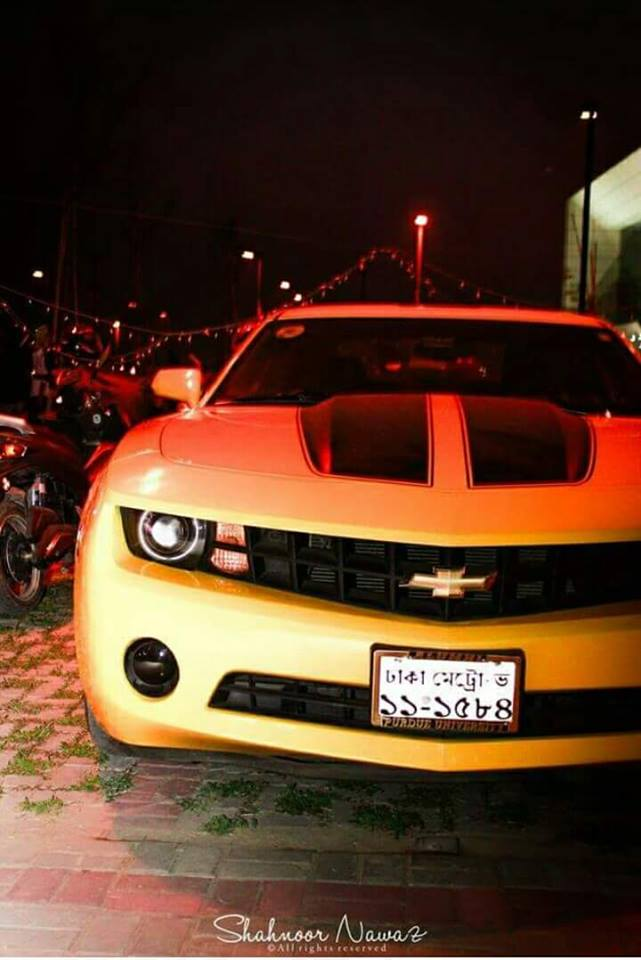registration_plate: (379, 656, 515, 724)
